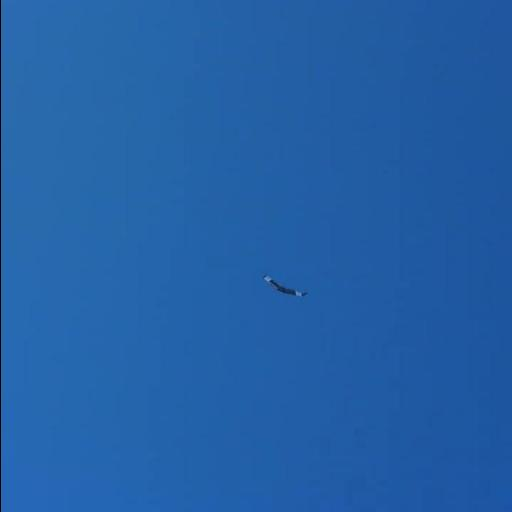uav: (256, 274, 309, 300)
